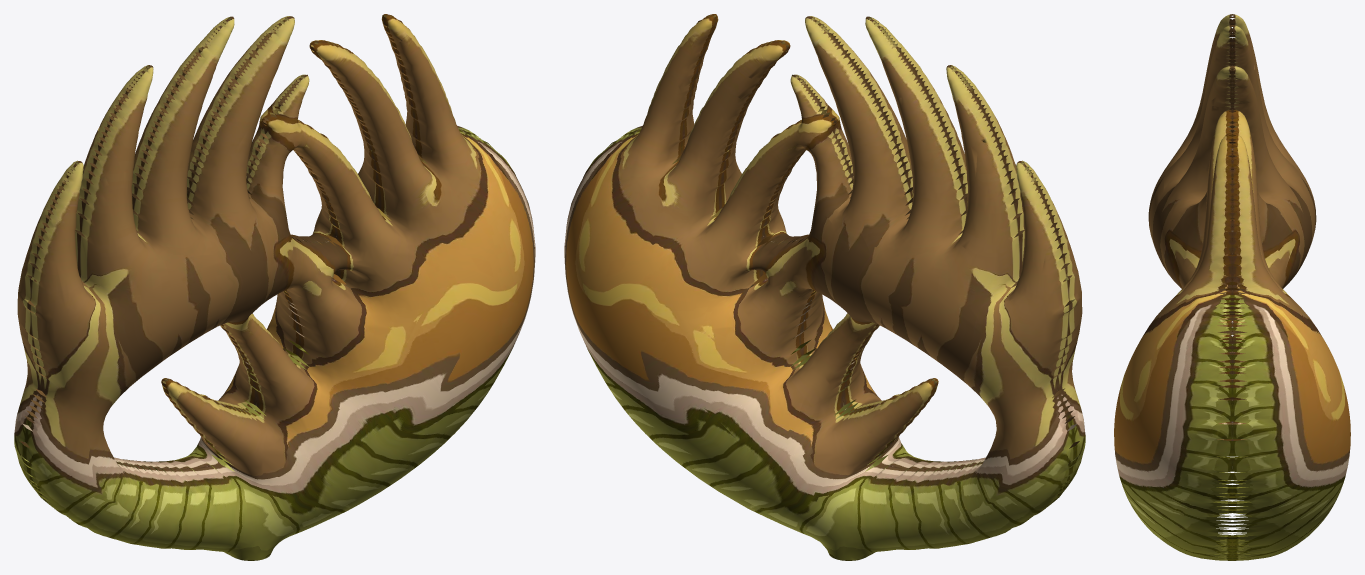
Rendered from thorn_husk.glb.
3 views of the same model, side by side, from view 1: azimuth 30°, elevation 25°; view 2: azimuth 150°, elevation 25°; view 3: azimuth 270°, elevation 25° (orthographic). The views are drawn at different scales.
Parts seen in each view (by area): view 1: thorn_husk; view 2: thorn_husk; view 3: thorn_husk.
Boxes of the visible parts, x1,y1,x2,y2 form: thorn_husk: (14,14,535,560); thorn_husk: (564,14,1085,560); thorn_husk: (1114,14,1350,560).
Bounding box in the file's own units: 0.9885 × 0.994 × 0.4246.
Materials: 1 (1 with a texture image).
